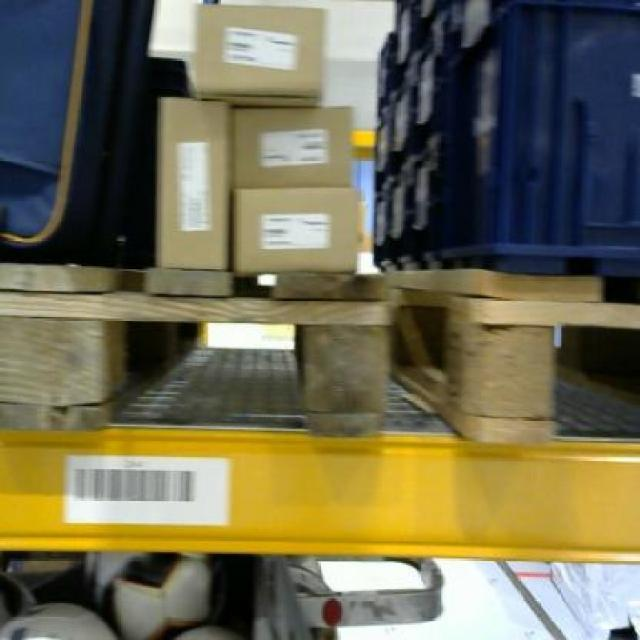box: (156, 96, 230, 270), (194, 1, 328, 90), (231, 185, 357, 273), (230, 105, 356, 187)
